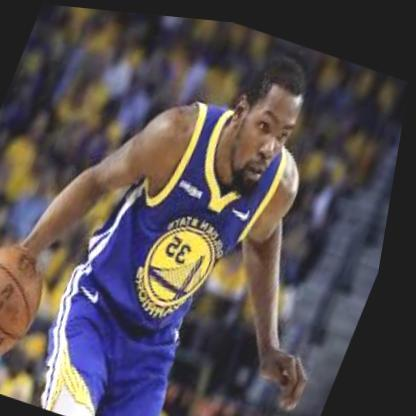basketball: (0, 233, 67, 369)
